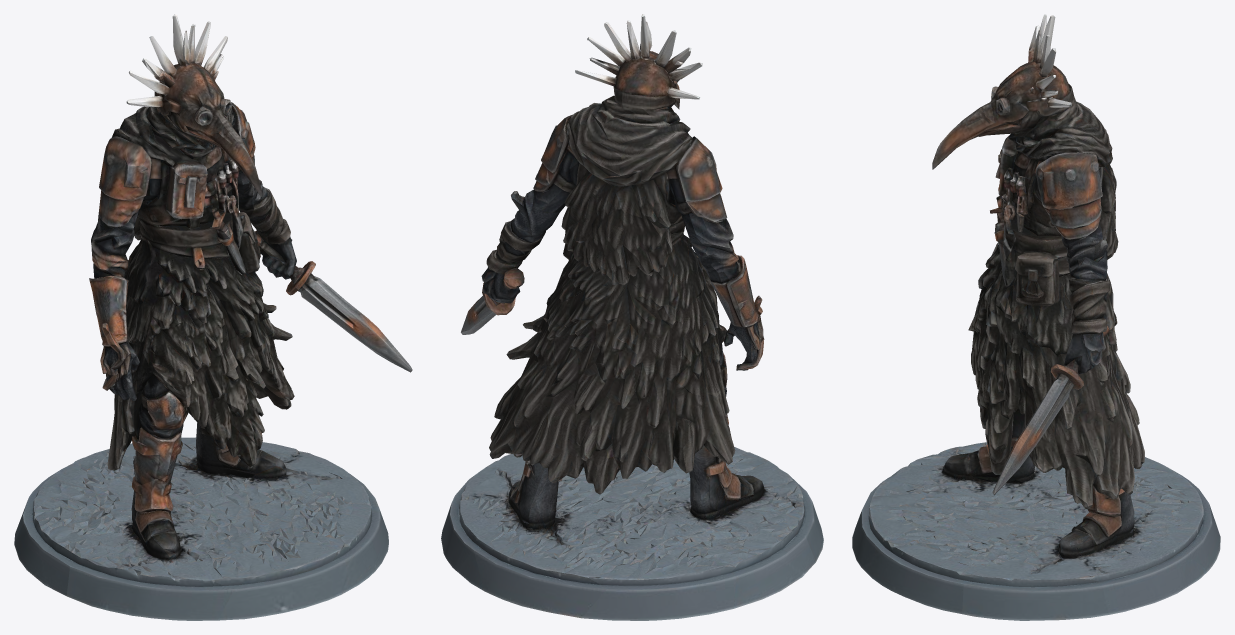
File: valdi.glb
3 views of the same model, side by side, from view 1: azimuth 30°, elevation 25°; view 2: azimuth 150°, elevation 25°; view 3: azimuth 270°, elevation 25° (orthographic). The views are drawn at different scales.
Parts seen in each view (by area): view 1: output_unwrapped; view 2: output_unwrapped; view 3: output_unwrapped.
Boxes of the visible parts, <box> form: output_unwrapped: <box>14,14,412,620</box>; output_unwrapped: <box>441,14,823,620</box>; output_unwrapped: <box>852,14,1220,620</box>.
Bounding box in the file's own units: 1.33 × 1.9 × 1.22.
Materials: 1 (1 with a texture image).
